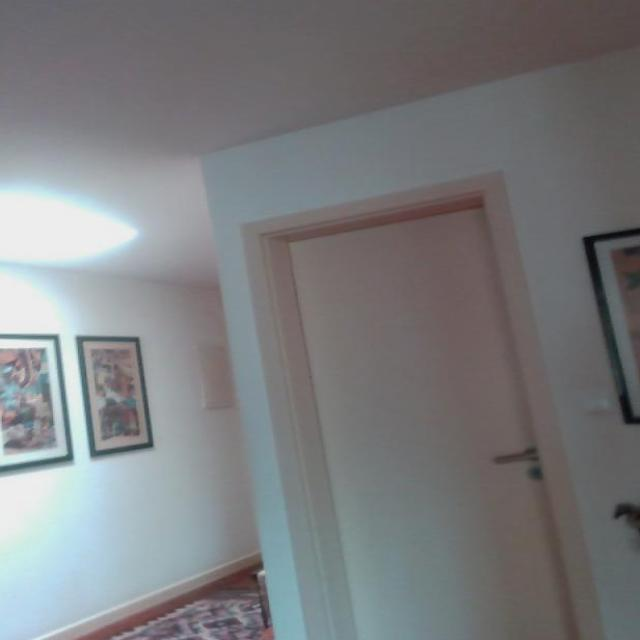door: (250, 176, 604, 638)
